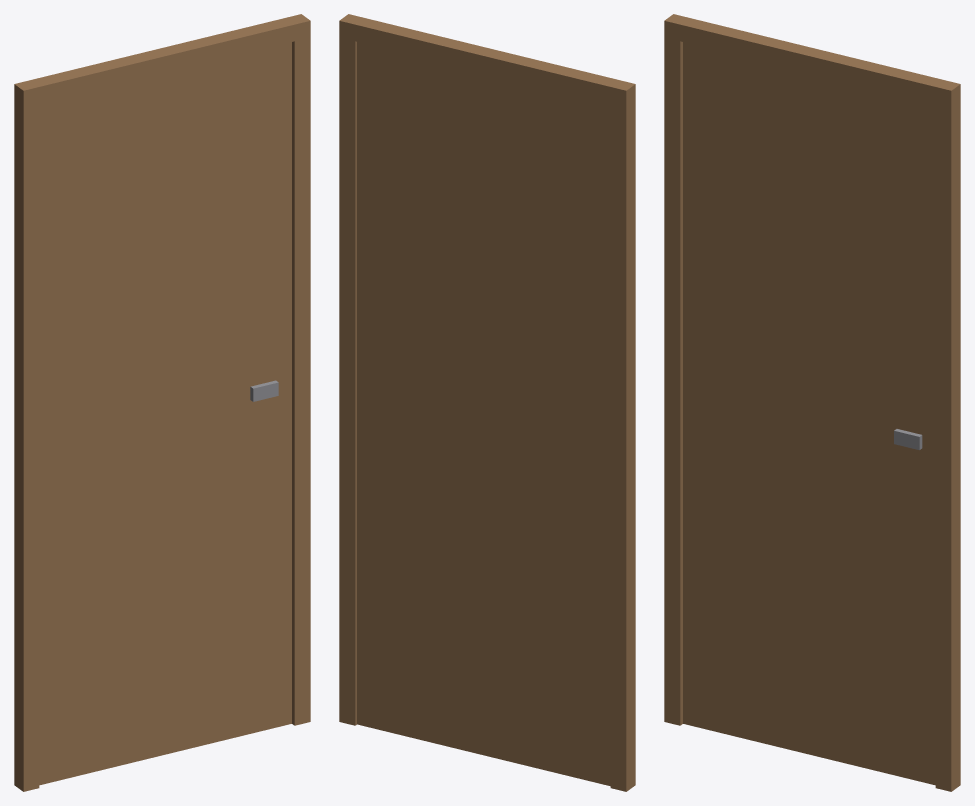
The model's file is door.obj.
3 renders of one model, left to right at view 1: azimuth 30°, elevation 25°; view 2: azimuth 150°, elevation 25°; view 3: azimuth 330°, elevation 25°, orthographic.
Parts seen in each view (by area): view 1: Leaf, Frame_L, Frame_R, Frame_T; view 2: Leaf, Frame_L, Frame_R, Frame_T; view 3: Leaf, Frame_R, Frame_L, Frame_T.
Part boxes in pixels (box(x1,y1,x2,y2)): Leaf: box(39, 42, 291, 785); Frame_L: box(14, 80, 39, 791); Frame_R: box(286, 14, 310, 725); Frame_T: box(30, 18, 294, 103); Leaf: box(357, 42, 610, 786); Frame_L: box(610, 80, 635, 791); Frame_R: box(339, 14, 363, 725); Frame_T: box(355, 18, 619, 103); Leaf: box(683, 42, 935, 785); Frame_R: box(935, 80, 960, 791); Frame_L: box(664, 14, 688, 725); Frame_T: box(680, 18, 944, 103).
Size of the model in its own units: 0.9 by 2.1 by 0.05.
